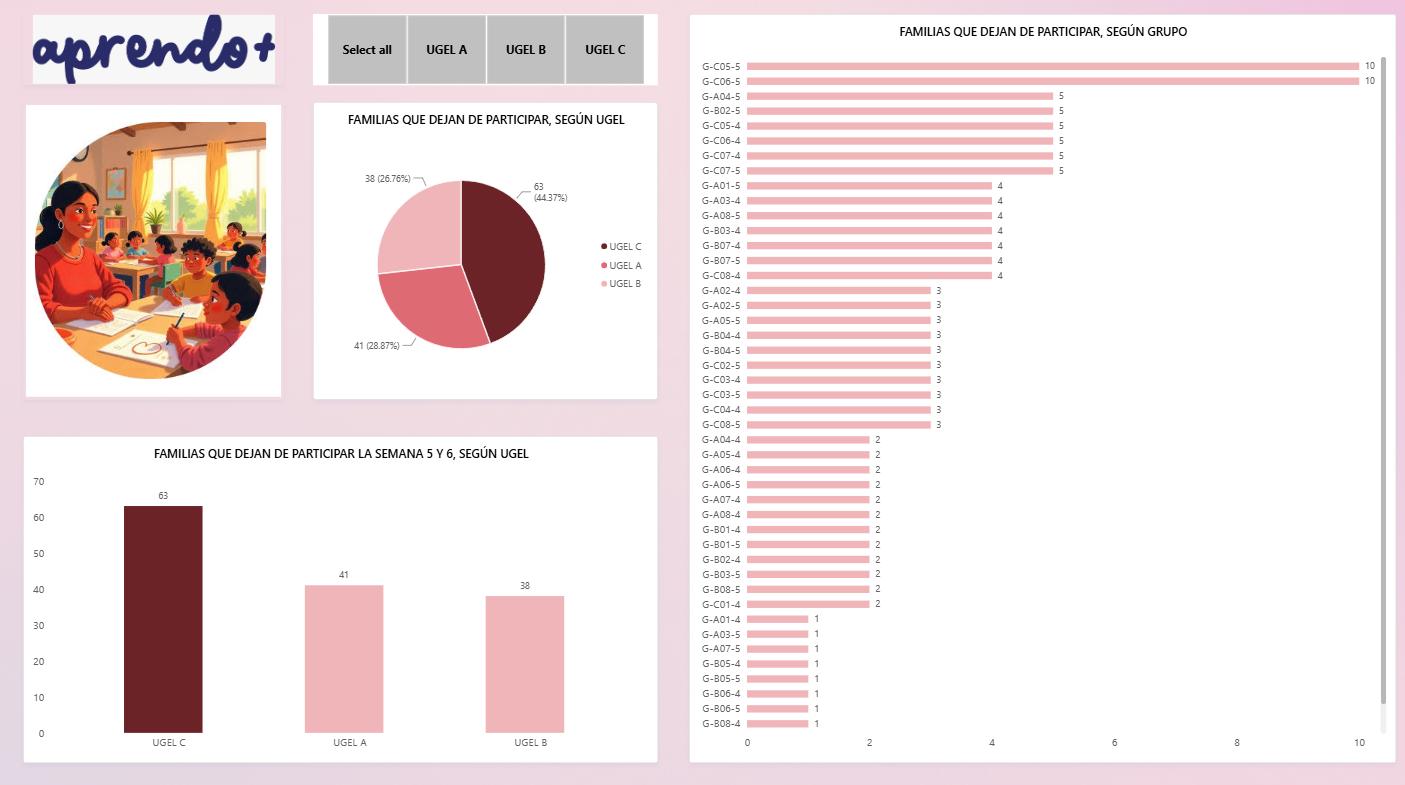

The dashboard page shown, as its layout file describes it:
{"tool":"powerbi","page":{"name":"part 1.3","canvas":[1920,1080],"ordinal":2},"visuals":[{"type":"cardVisual","fields":{"Data":["Sum(v_tps_ugel.Semana)"]},"box":[34,145.5,355,405.3],"z":0},{"type":"cardVisual","fields":{"Data":["Sum(v_tps_ugel.Semana)"]},"box":[34,25.8,355,96.6],"z":1000},{"type":"clusteredBarChart","title":"FAMILIAS QUE DEJAN DE PARTICIPAR, SEGÚN GRUPO","fields":{"Category":["v_n_dejan.grupo"],"Y":["Sum(v_n_dejan.n_dejan)"]},"box":[939.9,25.8,961.7,1018.8],"z":2000},{"type":"slicer","fields":{"Values":["v_n_dejan.ugel"]},"box":[428.5,25.8,469.3,96.6],"z":3000},{"type":"clusteredColumnChart","title":"FAMILIAS QUE DEJAN DE PARTICIPAR LA SEMANA 5 Y 6, SEGÚN UGEL","fields":{"Category":["v_n_dejan.ugel"],"Y":["Sum(v_n_dejan.n_dejan)"]},"box":[34,599.8,863.7,444.8],"z":4000},{"type":"pieChart","title":"FAMILIAS QUE DEJAN DE PARTICIPAR, SEGÚN UGEL","fields":{"Category":["v_n_dejan.ugel"],"Y":["Sum(v_n_dejan.n_dejan)"]},"box":[428.5,145.5,469.3,405.3],"z":5000}]}

Visuals, with their boxes in screenshot pixels (x1, y1, x2, y2), scaled from the page's 1920x1080 canvas onto the 1405x785 screenshot:
cardVisual - Sum(v_tps_ugel.Semana): (left=25, top=106, right=285, bottom=400)
cardVisual - Sum(v_tps_ugel.Semana): (left=25, top=19, right=285, bottom=89)
"FAMILIAS QUE DEJAN DE PARTICIPAR, SEGÚN GRUPO" clusteredBarChart: (left=688, top=19, right=1392, bottom=759)
slicer - v_n_dejan.ugel: (left=314, top=19, right=657, bottom=89)
"FAMILIAS QUE DEJAN DE PARTICIPAR LA SEMANA 5 Y 6, SEGÚN UGEL" clusteredColumnChart: (left=25, top=436, right=657, bottom=759)
"FAMILIAS QUE DEJAN DE PARTICIPAR, SEGÚN UGEL" pieChart: (left=314, top=106, right=657, bottom=400)
